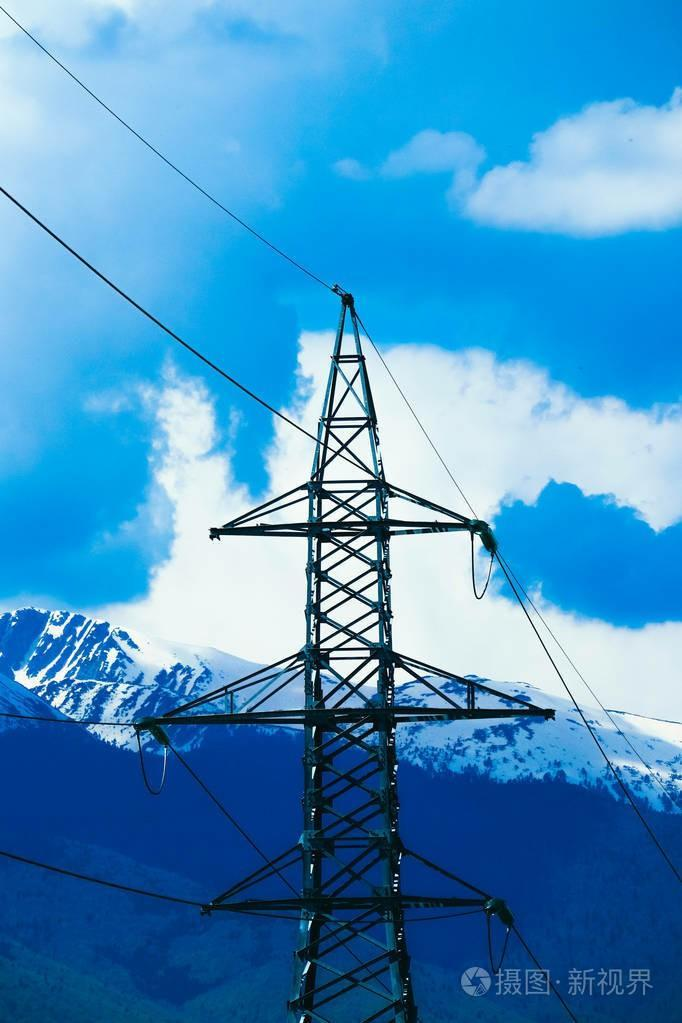power_tower: (157, 277, 540, 994)
